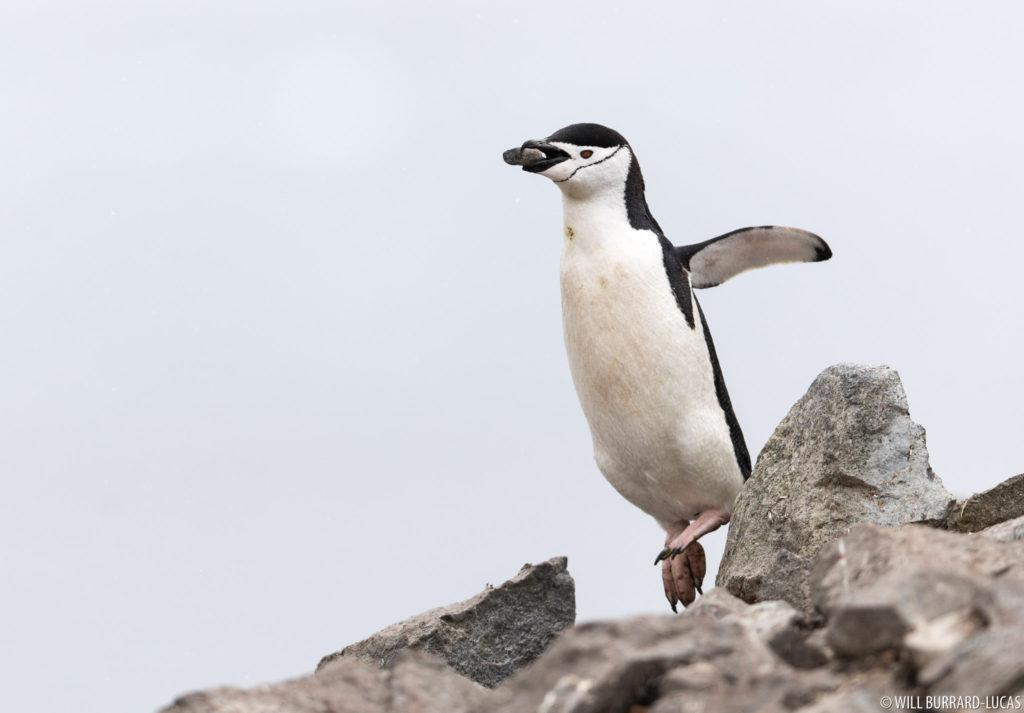chinstrap: (477, 109, 857, 597)
